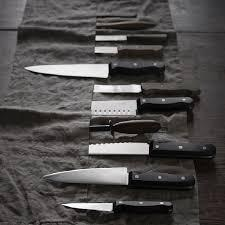knives: (16, 30, 172, 97)
